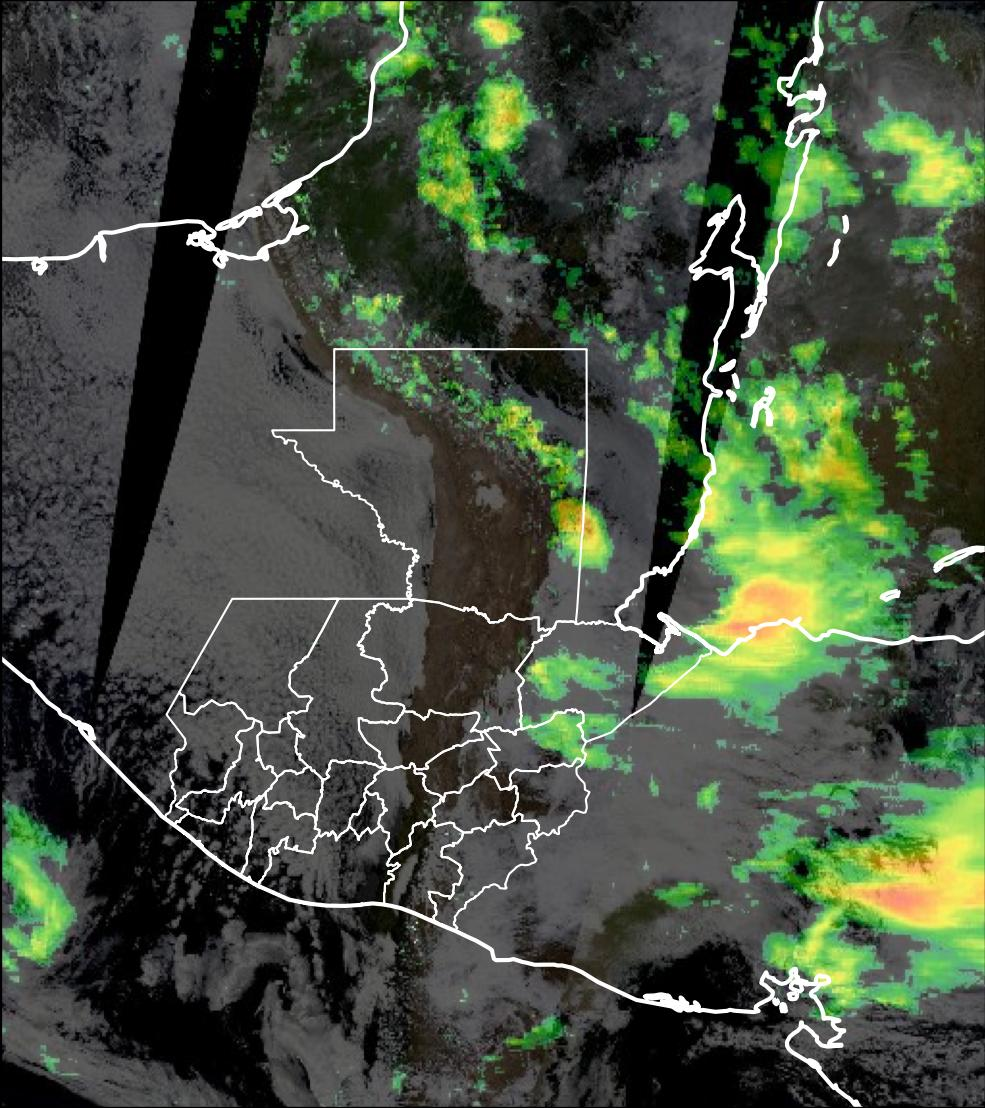precipitacion: (819, 845, 985, 939)
